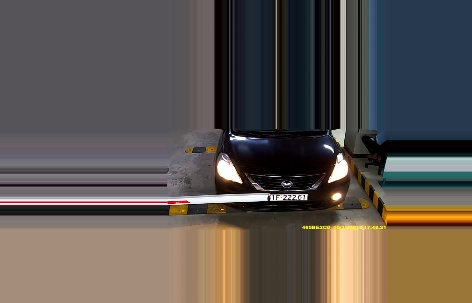plate: (262, 192, 311, 205)
